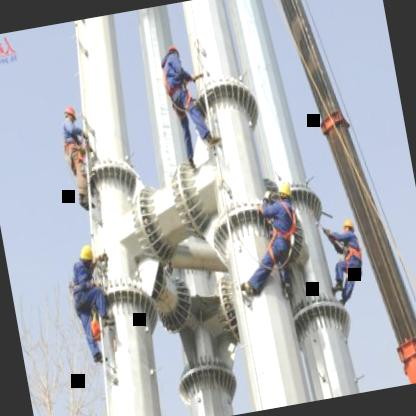helmet: (71, 236, 99, 276), (273, 173, 293, 205), (59, 98, 80, 128), (337, 211, 358, 240)
